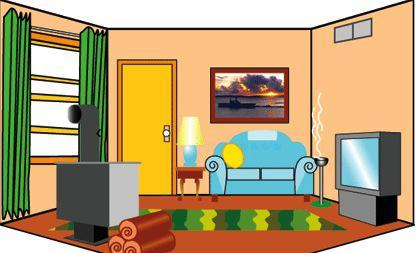sofa: (203, 128, 319, 203)
tvmonitor: (331, 132, 401, 228)
